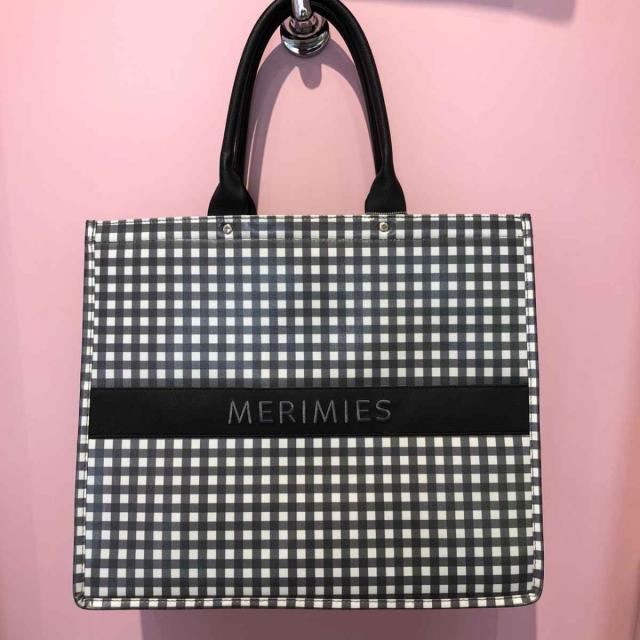Handbag: (59, 185, 552, 636)
